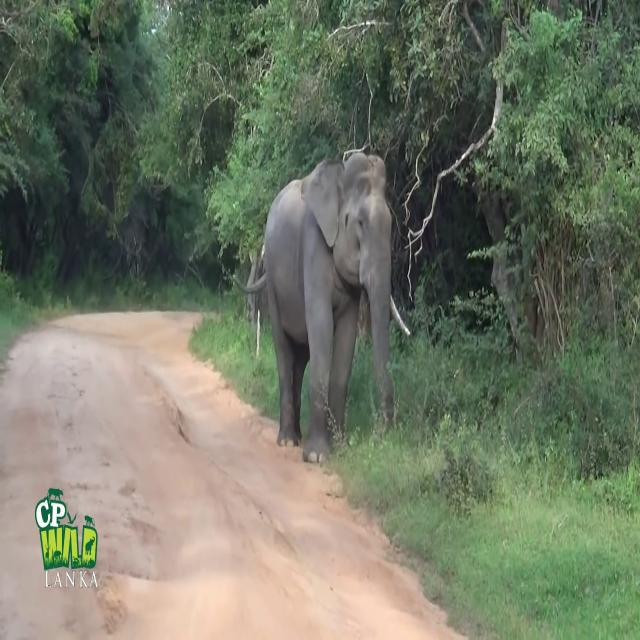Elephant: (239, 151, 412, 464)
